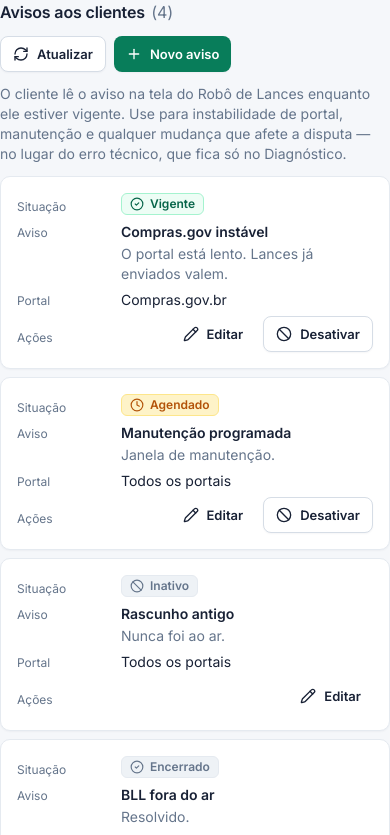
Test: formulário de aviso › título e mensagem são obrigatórios — nada vai ao banco
Expected: the text "Compras.gov instável" is shown, [121,223,268,240]
Click the button "Novo aviso".
click(173, 54)  # box [114,36,232,72]
(page scrolled)
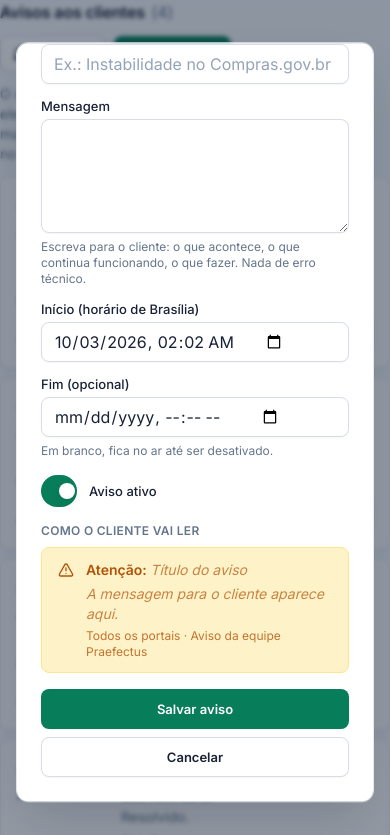
Now the dialog is shown
Click the button "Salvar aviso".
click(195, 709)  # box [41,689,349,729]
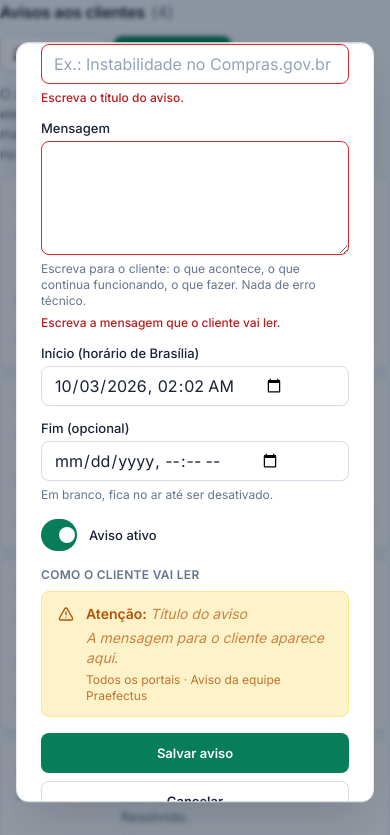
Now the text "Escreva o título do aviso." is shown, box [41,90,184,105]
Now the text "Escreva a mensagem que o cliente vai ler." is shown, box [41,315,280,330]
